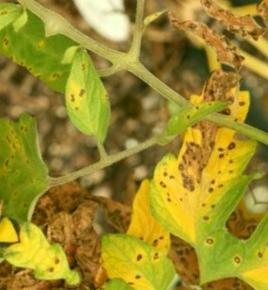Tomato Septoria leaf spot: (97, 57, 268, 286), (79, 213, 193, 290)
